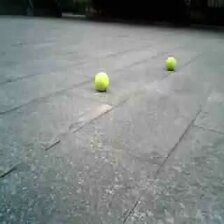tennis: (94, 72, 109, 90), (166, 56, 177, 69)
